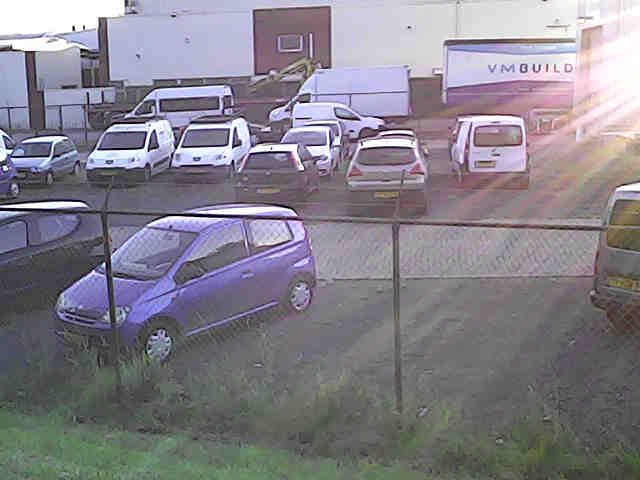suv: (112, 204, 315, 361), (0, 200, 102, 307), (590, 183, 639, 331), (346, 137, 428, 211), (451, 115, 530, 187), (86, 118, 174, 182), (171, 116, 251, 178), (235, 144, 318, 201), (292, 102, 385, 140), (10, 135, 81, 184), (281, 126, 339, 176), (303, 120, 350, 168), (0, 130, 19, 198), (0, 129, 15, 160), (377, 129, 416, 139)
whitevan: (269, 66, 410, 128), (590, 183, 639, 330), (86, 118, 174, 182), (451, 115, 529, 186), (172, 116, 251, 177), (125, 85, 234, 129), (292, 102, 385, 139)
